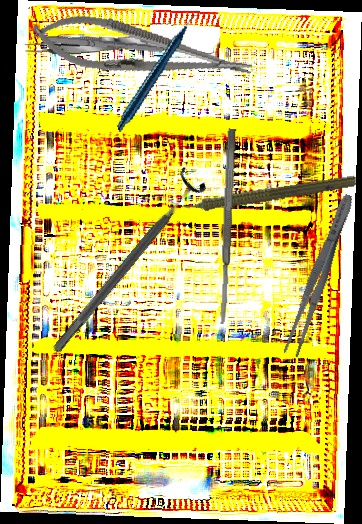Dressing Forceps: (280, 191, 359, 359)
Fixation Ring: (41, 164, 211, 362)
Handpiece: (90, 13, 230, 132), (166, 168, 358, 219)
Hook Surgical: (47, 27, 215, 60)
Needle Holder: (27, 5, 257, 98)
Spatula Surgical: (216, 128, 238, 325)
Tissue Forceps: (23, 32, 157, 58)
